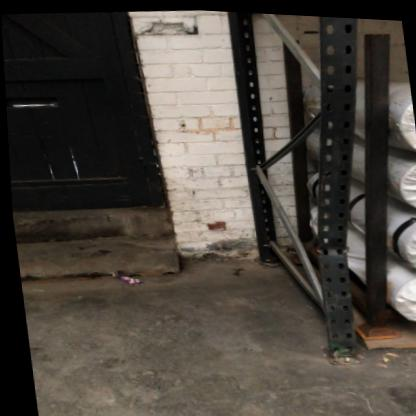vertical_damage: (300, 187, 368, 290)
